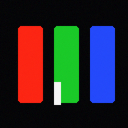4 line_v: (54, 82, 60, 104)
